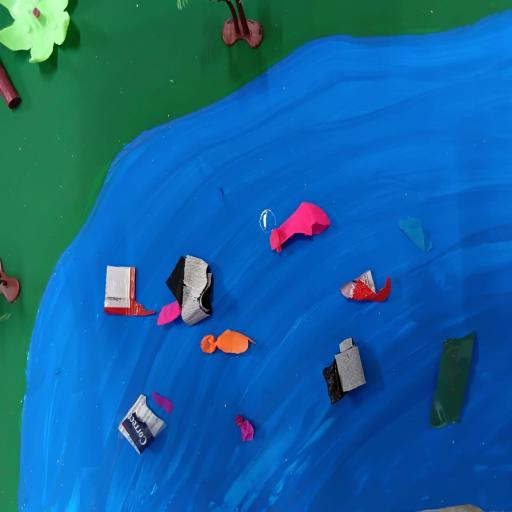trash: (428, 324, 477, 430), (158, 256, 222, 326), (266, 199, 333, 255), (319, 338, 372, 405), (103, 258, 157, 322), (114, 397, 167, 451), (338, 271, 394, 303), (395, 212, 436, 254), (197, 330, 259, 357), (148, 385, 178, 414), (234, 410, 257, 444)
